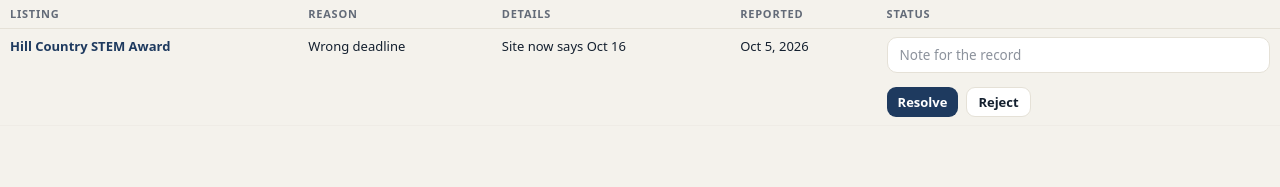
ReportsTable › needs a note, then resolves the report and shows its new status
expect the text "Wrong deadline" is shown: met, box [298, 28, 492, 125]
expect the text "Oct 5, 2026" is shown: met, box [730, 28, 876, 125]
Click the button with aria-label "Resolve report on Hill Country STEM Award" at (922, 102), box [887, 87, 958, 117]
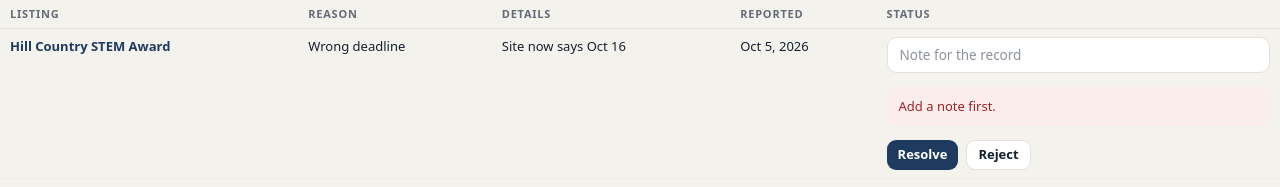
expect the message reads "Add a note first.": met, box [899, 97, 996, 115]
Type "Deadline fixed" into the field named "Note for report on Hill Country STEM Award" at (1078, 55), box [887, 37, 1270, 73]
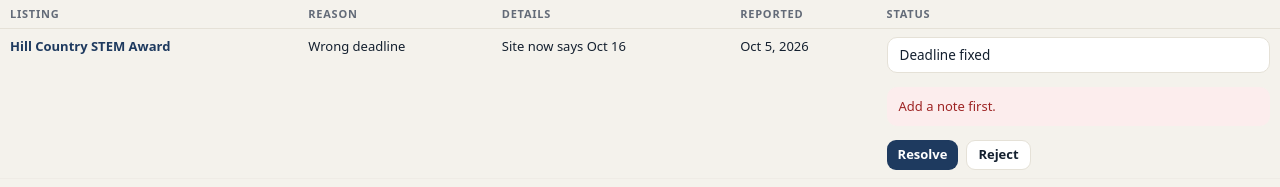
Click the button with aria-label "Resolve report on Hill Country STEM Award" at (922, 155), box [887, 140, 958, 170]
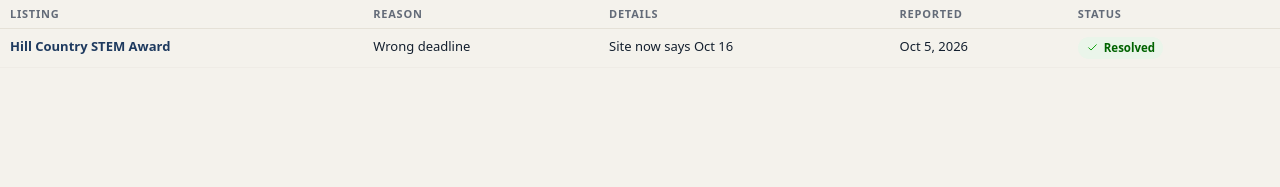
expect the text "Resolved" is shown: met, box [1078, 37, 1163, 59]
